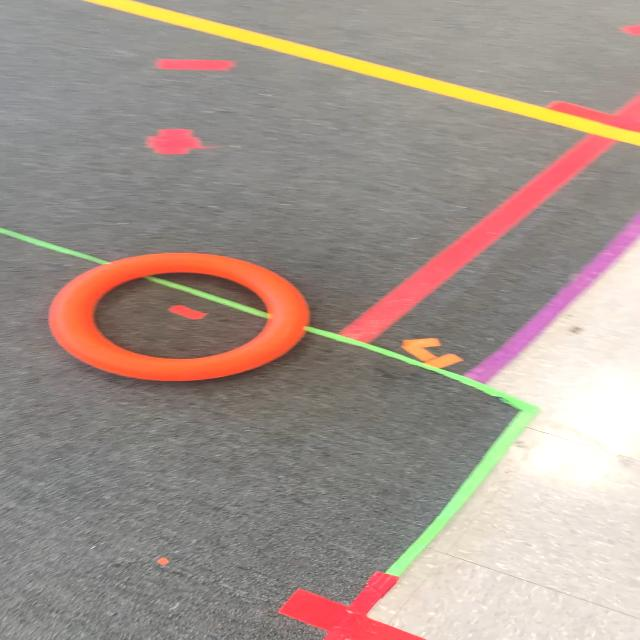notes: (46, 252, 314, 382)
